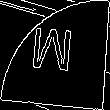M_S: (31, 28, 79, 82)
